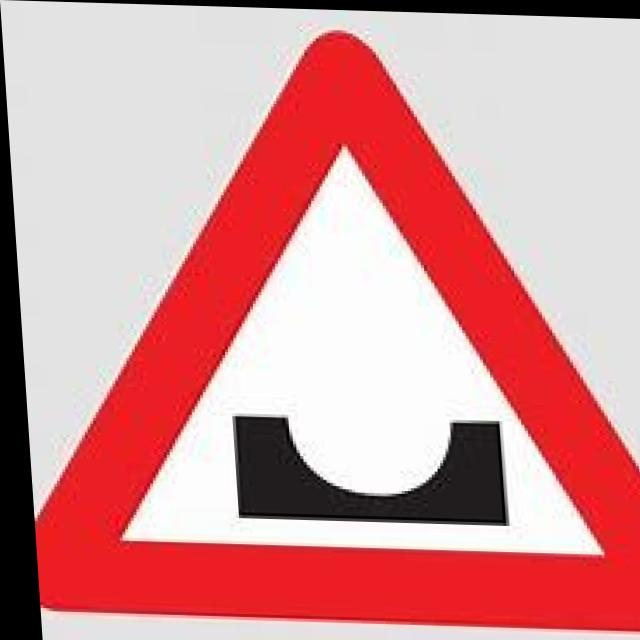DANGEROUS_DIP: (1, 17, 640, 629)
